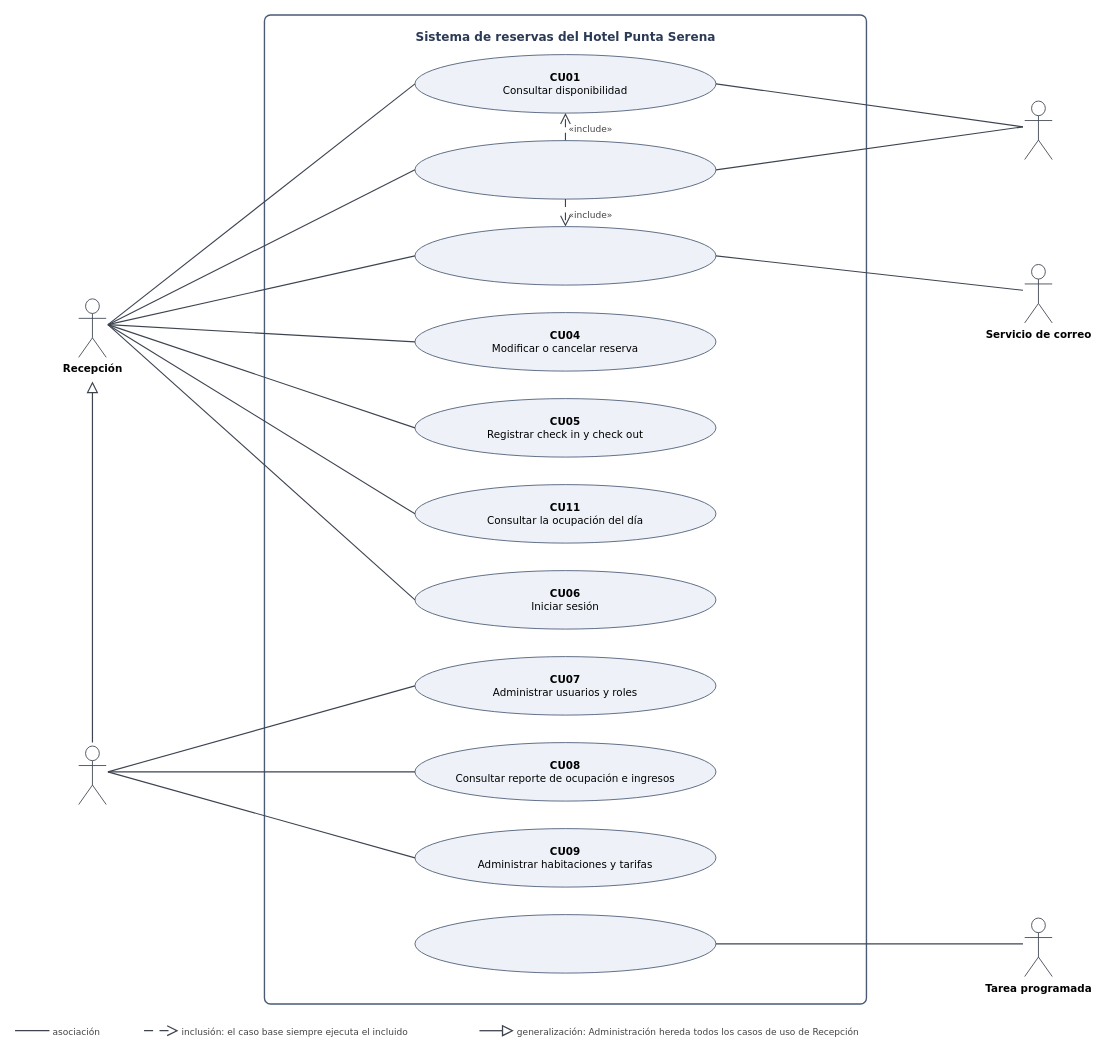
The diagram is 1107 pixels wide and 1057 high, and some of its shapes have lost their labels. Here are the shapes that lost their labels. From the top down, the centre of each, then its label:
At point 1038,130: "Huésped".
At point 565,169: "CU02 Registrar reserva".
At point 565,255: "CU03 Enviar confirmación".
At point 92,775: "Administración".
At point 565,943: "CU10 Generar respaldo diario".
